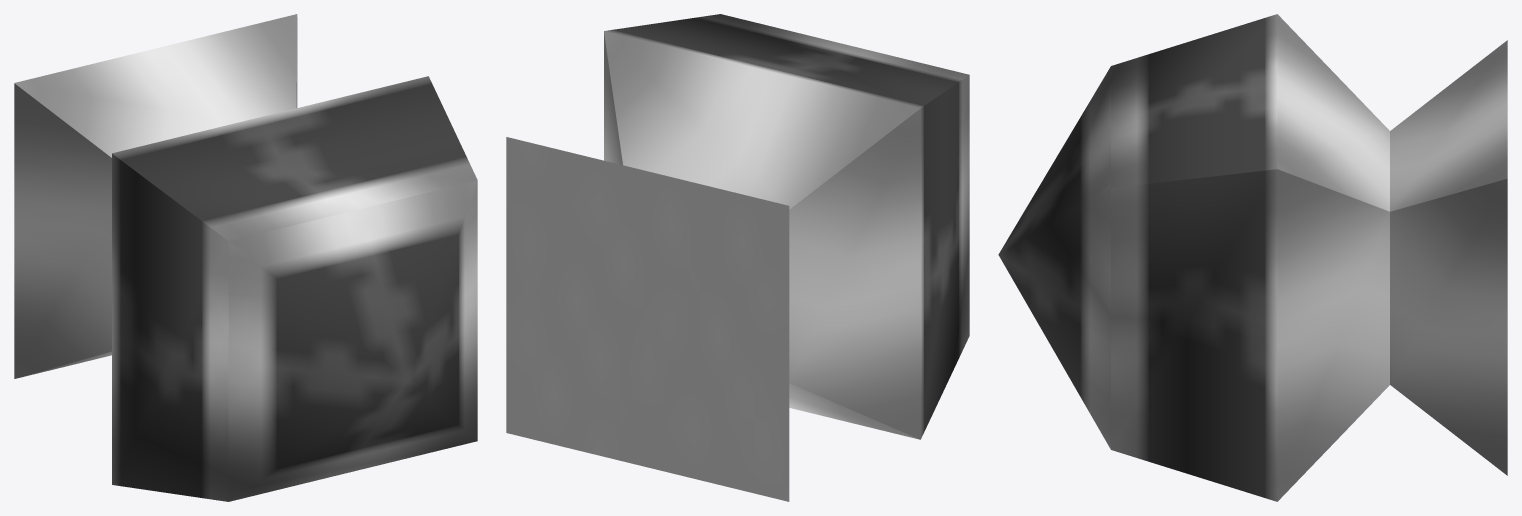
Rendered from shell-mortar.glb.
3 renders of one model, left to right at view 1: azimuth 30°, elevation 25°; view 2: azimuth 150°, elevation 25°; view 3: azimuth 270°, elevation 25°, orthographic.
Visible parts, largest first — view 1: root; view 2: root; view 3: root.
Part boxes in pixels (x1,y1,x2,y2): root: [14, 14, 477, 501]; root: [506, 14, 969, 501]; root: [998, 14, 1507, 501].
Size of the model in its own units: 0.1465 by 0.1465 by 0.2031.
1 material, 1 textured.
